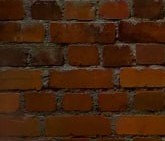brick: (49, 21, 117, 44), (46, 115, 112, 136), (47, 69, 115, 89), (115, 115, 165, 139), (117, 67, 165, 89), (118, 20, 165, 42), (1, 69, 44, 91), (1, 23, 46, 43), (1, 115, 41, 136), (131, 91, 165, 113), (62, 91, 95, 113), (102, 45, 134, 67), (31, 46, 66, 66), (23, 91, 58, 111), (67, 45, 101, 65), (63, 1, 98, 19), (30, 1, 62, 20), (98, 91, 128, 111), (136, 45, 165, 65), (99, 1, 130, 19), (1, 47, 29, 66), (133, 1, 164, 18), (1, 91, 22, 115), (1, 1, 26, 19)
